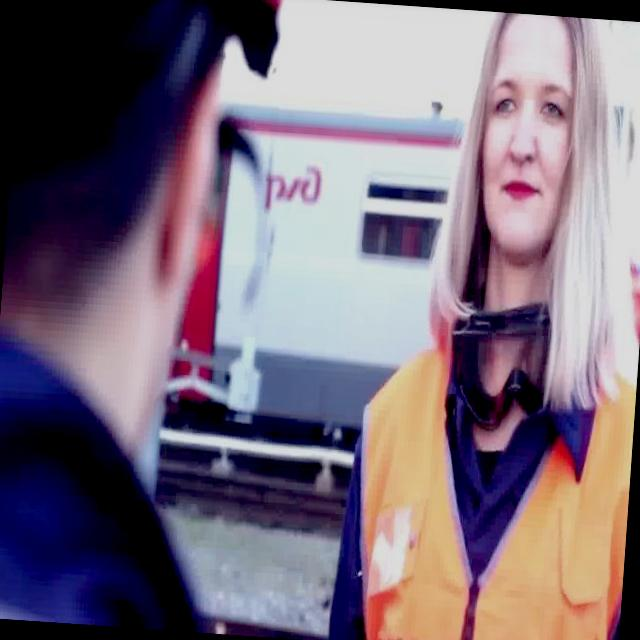vest: (343, 333, 638, 640)
